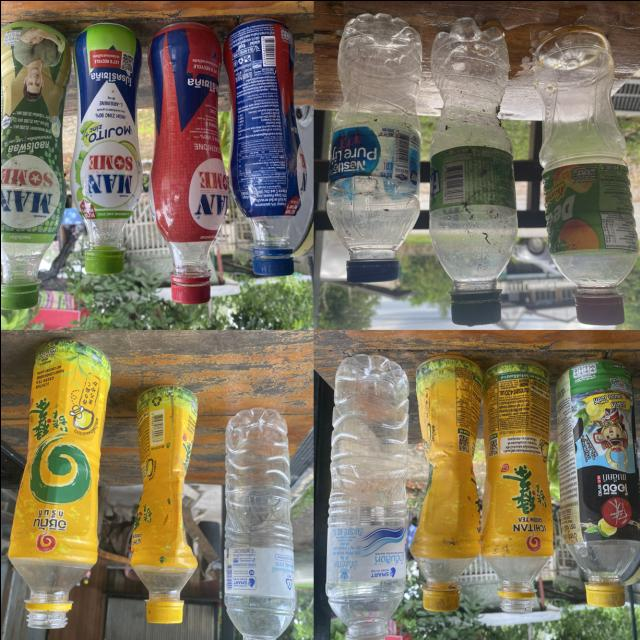plastik: (532, 26, 638, 325), (7, 340, 109, 628), (429, 17, 516, 325), (326, 13, 421, 282), (324, 354, 408, 640), (148, 22, 227, 303), (555, 359, 640, 607), (223, 18, 305, 275), (0, 22, 70, 309), (409, 354, 481, 611), (480, 360, 553, 612), (69, 22, 142, 274), (224, 408, 294, 640), (130, 385, 197, 623)
